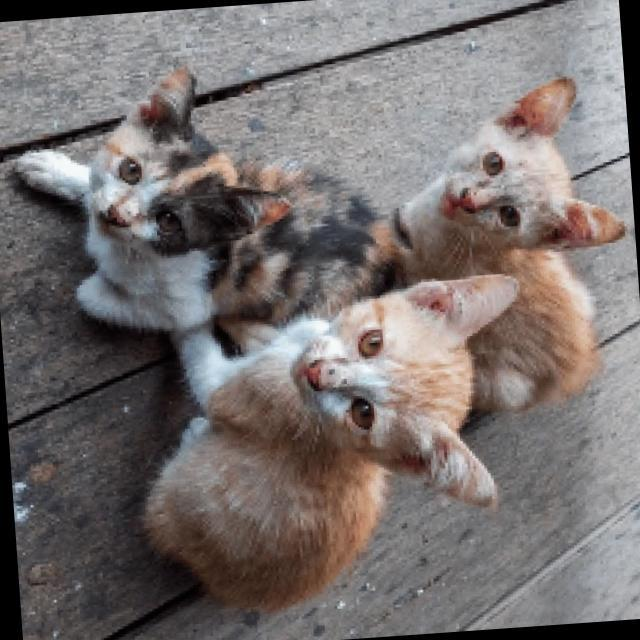Mange: (416, 290, 454, 326), (130, 89, 165, 122), (268, 190, 299, 223), (320, 360, 342, 390), (473, 177, 493, 192)
